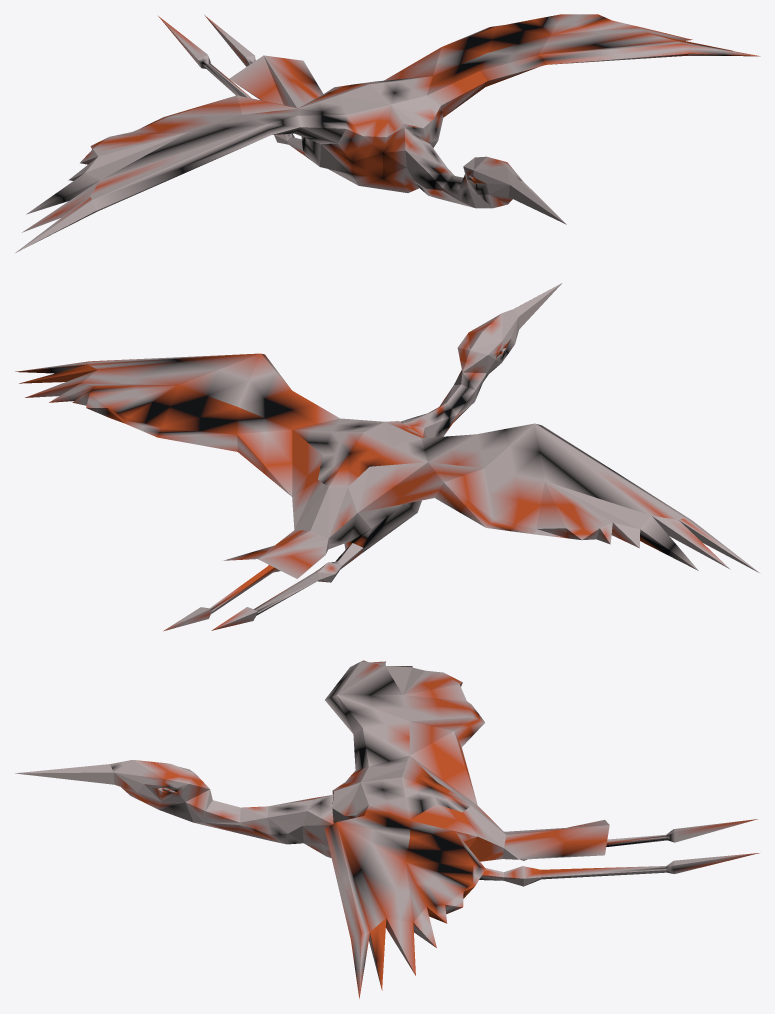
The model's file is stork.glb.
3 renders of one model, top to bottom at view 1: azimuth 30°, elevation 25°; view 2: azimuth 150°, elevation 25°; view 3: azimuth 270°, elevation 25°, orthographic. The views are drawn at different scales.
Visible parts, largest first — view 1: Mesh_0; view 2: Mesh_0; view 3: Mesh_0.
Part boxes in pixels (x1,y1,x2,y2): Mesh_0: (15,14,760,252); Mesh_0: (15,283,759,631); Mesh_0: (15,660,759,998).
Size of the model in its own units: 197 by 29.9 by 174.
